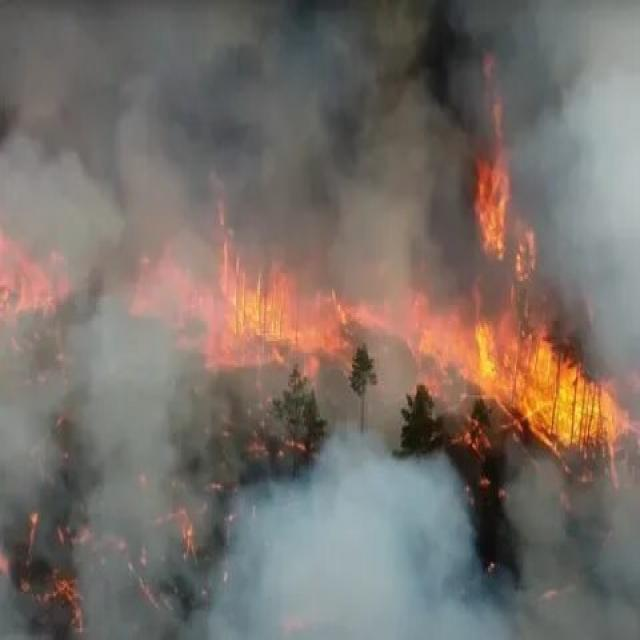Fire: (197, 220, 614, 450), (454, 14, 568, 335)
Smoke: (0, 0, 199, 640), (190, 0, 450, 222), (232, 427, 498, 640)
